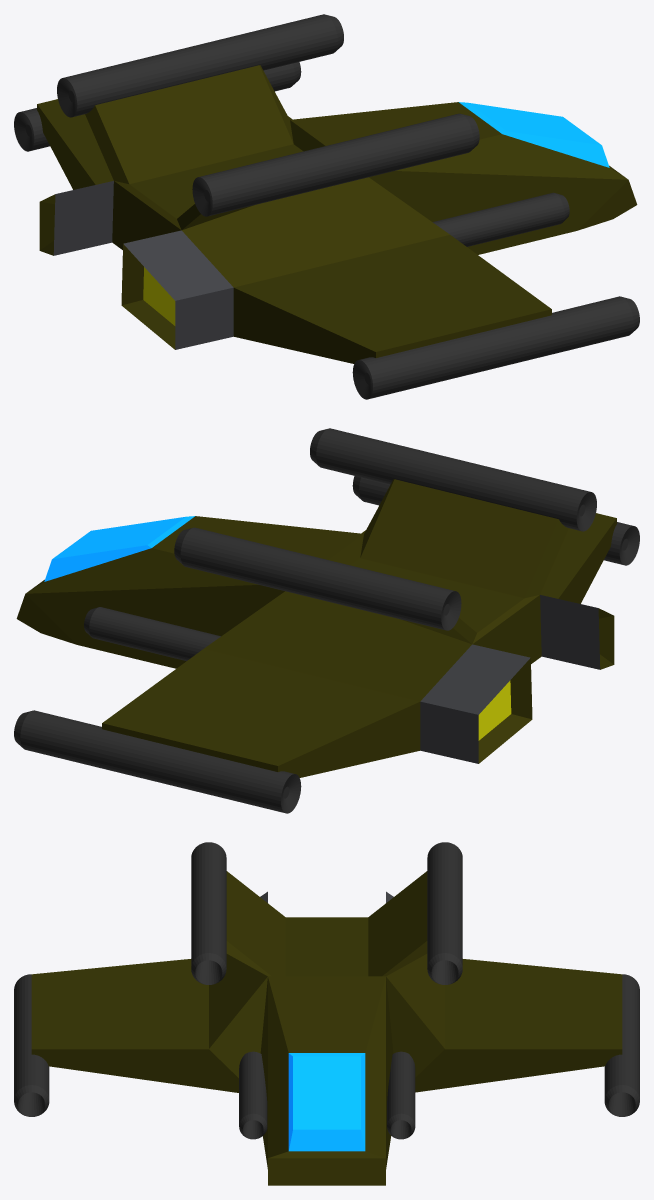
File: fighterjet2.fbx
The picture shows the model from 3 angles, top to bottom: view 1: azimuth 30°, elevation 25°; view 2: azimuth 150°, elevation 25°; view 3: azimuth 270°, elevation 25°; orthographic projection. The views are drawn at different scales.
Parts seen in each view (by area): view 1: Cube, Cylinder.005, Cylinder.006, Cylinder.004, Cylinder.002, Cylinder.000; view 2: Cube, Cylinder.004, Cylinder.000, Cylinder.005, Cylinder.003, Cylinder.006; view 3: Cube, Cylinder.005, Cylinder.004, Cylinder.000, Cylinder.006, Cylinder.003, Cylinder.002.
Boxes of the visible parts, bbox=[...] form: Cube: bbox=[37, 65, 637, 363]; Cylinder.005: bbox=[192, 113, 479, 216]; Cylinder.006: bbox=[352, 296, 639, 399]; Cylinder.004: bbox=[57, 14, 343, 117]; Cylinder.002: bbox=[432, 192, 569, 246]; Cylinder.000: bbox=[14, 62, 301, 151]; Cube: bbox=[16, 479, 616, 777]; Cylinder.004: bbox=[174, 527, 461, 630]; Cylinder.000: bbox=[14, 710, 301, 813]; Cylinder.005: bbox=[310, 428, 596, 531]; Cylinder.003: bbox=[84, 607, 220, 660]; Cylinder.006: bbox=[352, 476, 639, 565]; Cube: bbox=[31, 871, 622, 1185]; Cylinder.005: bbox=[191, 842, 226, 984]; Cylinder.004: bbox=[427, 842, 462, 984]; Cylinder.000: bbox=[604, 974, 639, 1116]; Cylinder.006: bbox=[14, 974, 49, 1116]; Cylinder.003: bbox=[387, 1051, 415, 1139]; Cylinder.002: bbox=[239, 1051, 267, 1139].
Size of the model in its own units: 879 by 288 by 1060.
